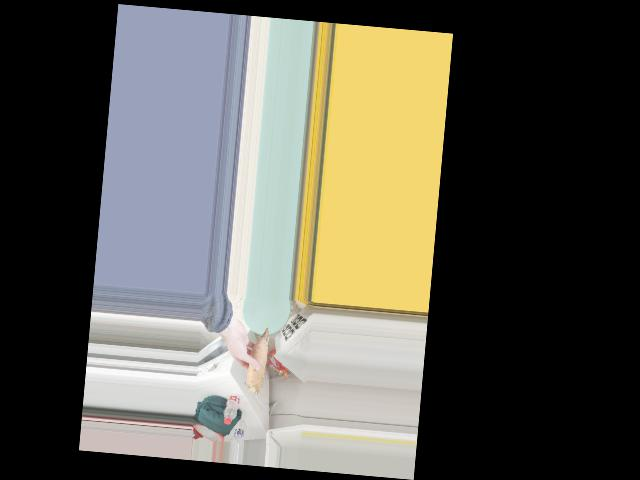sweet_potato: (244, 328, 268, 394)
